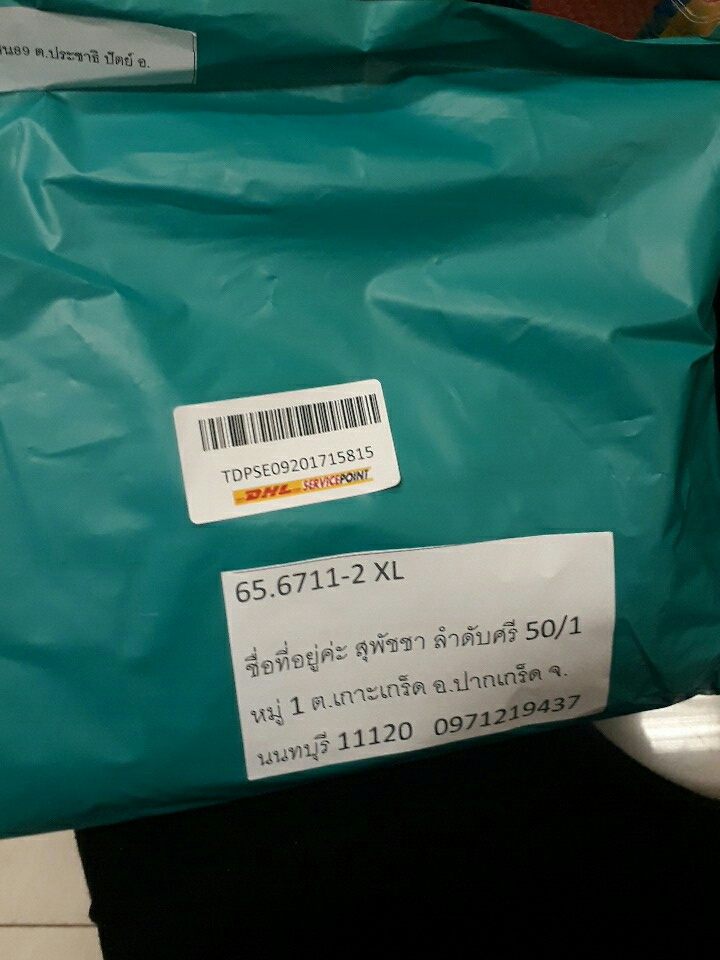ba: (168, 371, 424, 530)
txt: (240, 610, 613, 772)
